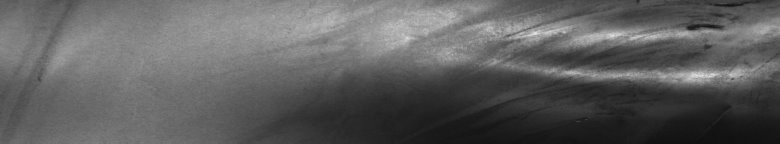ke: (404, 4, 776, 120)
